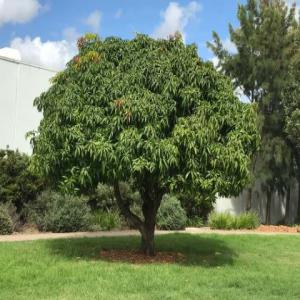Tree: (28, 29, 261, 248)
